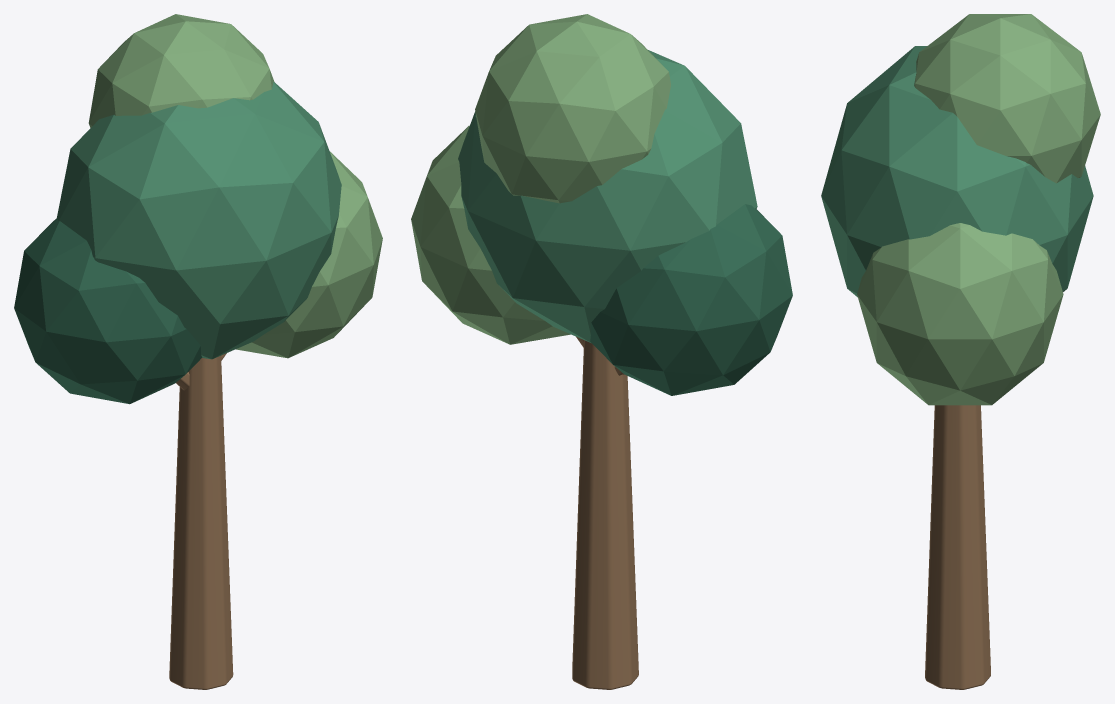
File: SM_Tree_Deciduous_01.fbx
3 renders of one model, left to right at view 1: azimuth 30°, elevation 25°; view 2: azimuth 150°, elevation 25°; view 3: azimuth 270°, elevation 25°, orthographic. The views are drawn at different scales.
Visible parts, largest first — view 1: SM_Tree_Deciduous_01; view 2: SM_Tree_Deciduous_01; view 3: SM_Tree_Deciduous_01.
Part boxes in pixels (<box>): SM_Tree_Deciduous_01: <box>14,14,382,689</box>; SM_Tree_Deciduous_01: <box>411,14,792,689</box>; SM_Tree_Deciduous_01: <box>821,14,1100,689</box>.
Size of the model in its own units: 2.79 by 5.09 by 1.95.
